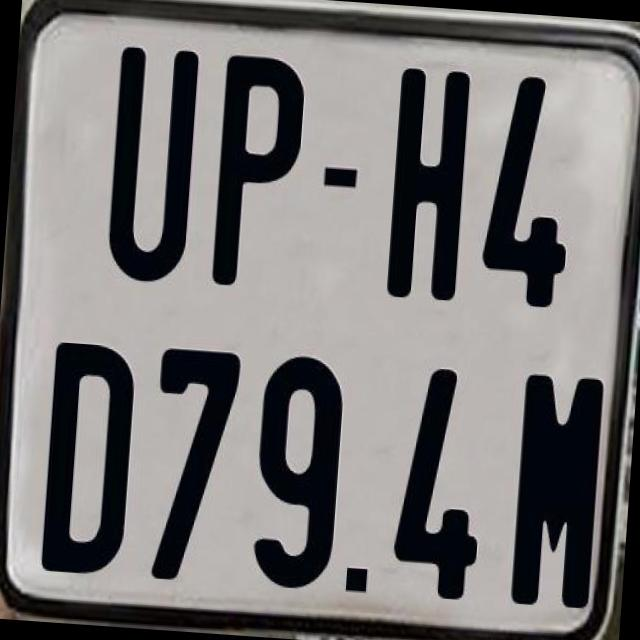4: (476, 72, 582, 315), (391, 364, 492, 598)
7: (146, 347, 247, 583)
9: (250, 350, 354, 588)
D: (39, 340, 143, 584)
H: (384, 64, 476, 304)
M: (509, 369, 612, 612)
P: (210, 51, 308, 286)
U: (104, 46, 205, 286)
